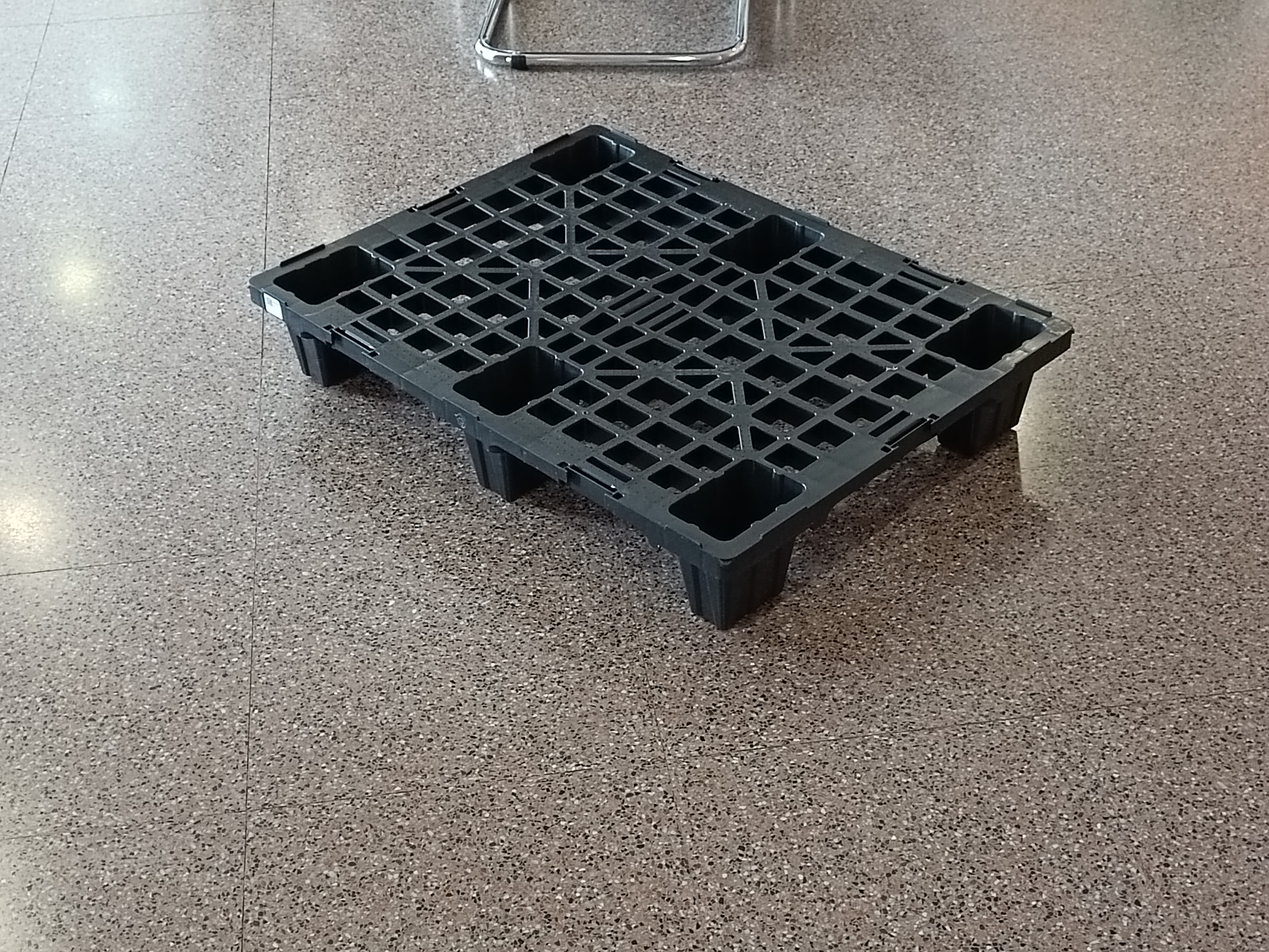block: (679, 522, 798, 635), (942, 358, 1034, 450), (460, 413, 528, 505), (284, 321, 368, 393)
front: (247, 291, 741, 656)
hole pallet: (512, 462, 687, 617), (322, 345, 478, 491)
